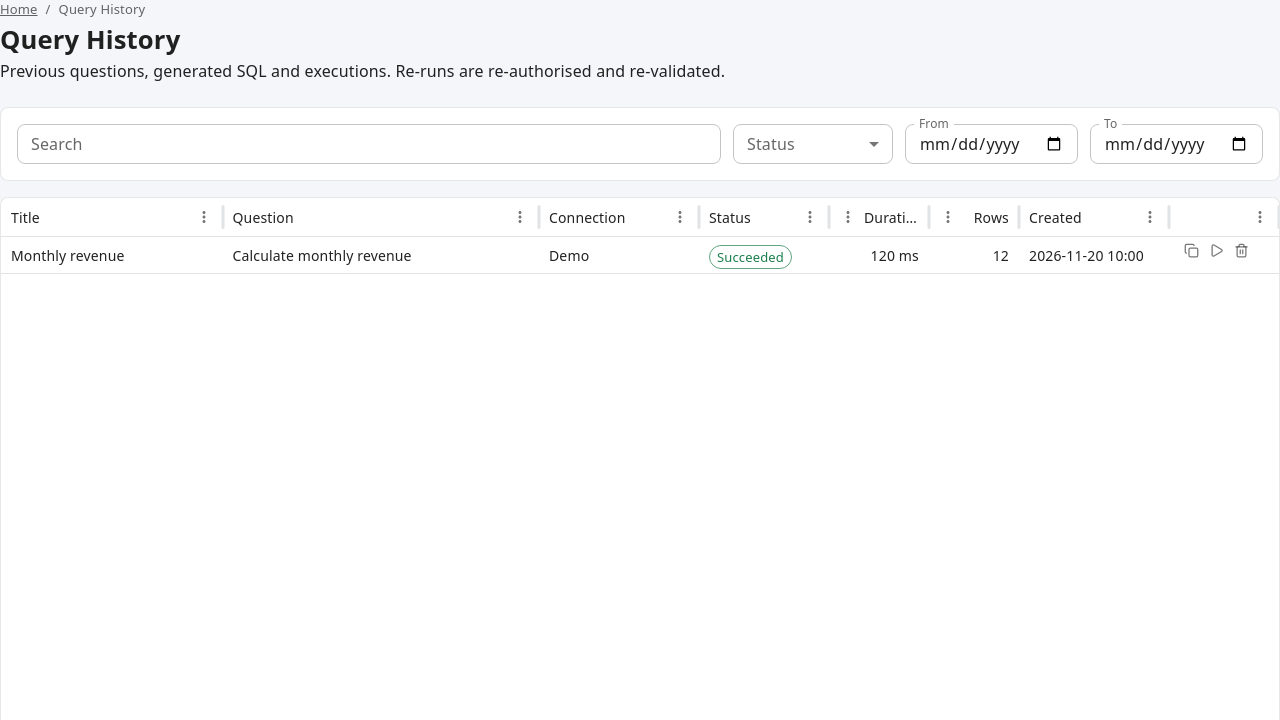
Test: HistoryPage › opens details with the SQL
Click the text "Monthly revenue": click(68, 256) [11,246,124,265]
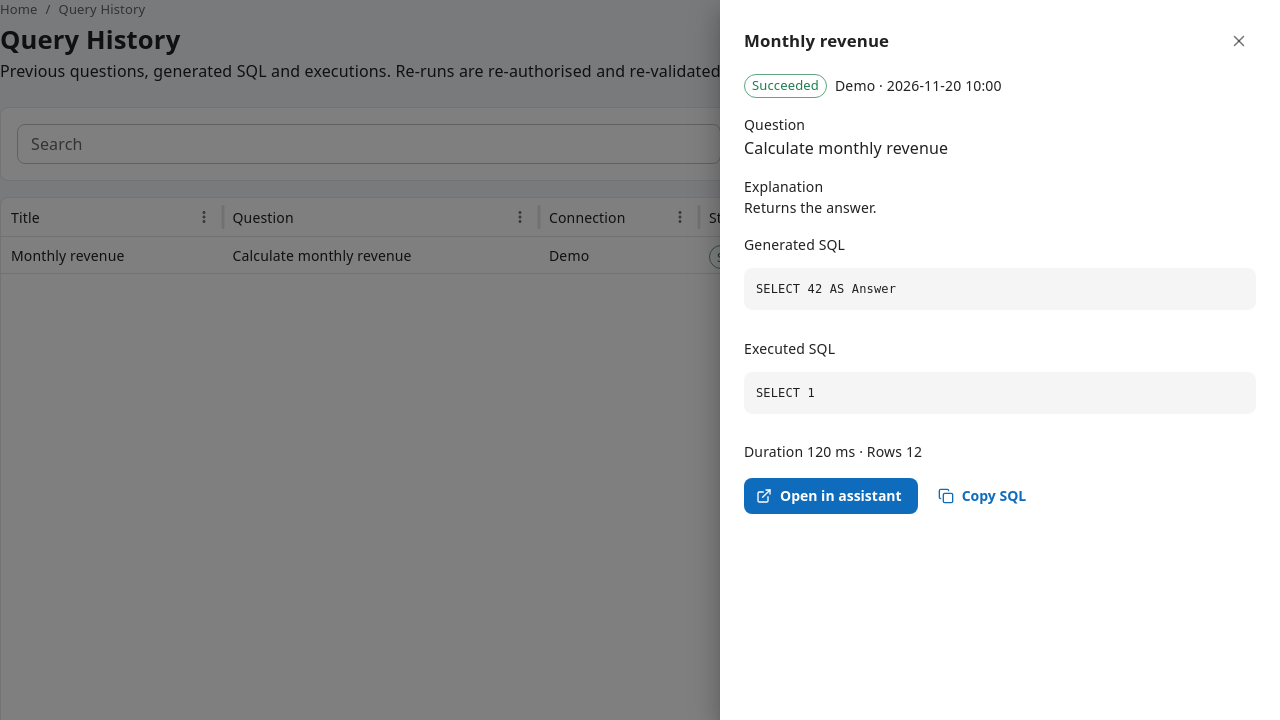
Result: the text "SELECT 42 AS Answer" is shown at [744,268,1256,310]
Result: the button "Open in assistant" is shown at [744,478,918,514]
